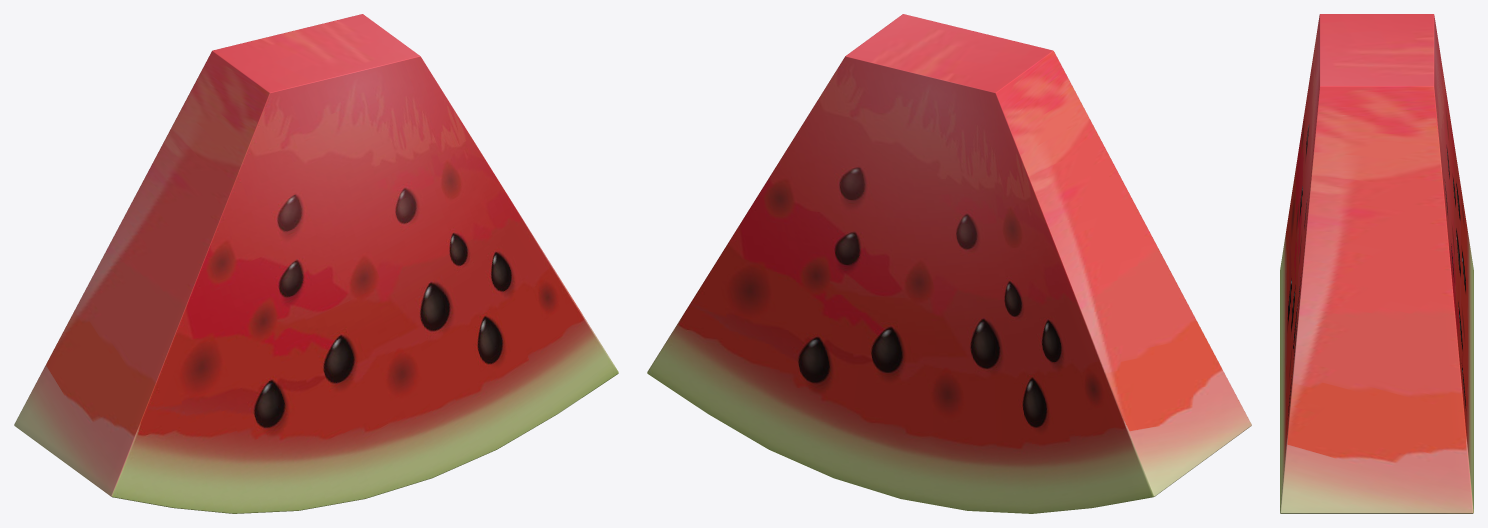
Rendered from watermelon.glb.
The picture shows the model from 3 angles, left to right: view 1: azimuth 30°, elevation 25°; view 2: azimuth 150°, elevation 25°; view 3: azimuth 270°, elevation 25°; orthographic projection.
Parts seen in each view (by area): view 1: pieces; view 2: pieces; view 3: pieces.
Boxes of the visible parts, x1,y1,x2,y2 form: pieces: (14,14,618,513); pieces: (647,14,1251,513); pieces: (1280,14,1473,513).
Bounding box in the file's own units: 0.196 × 0.1513 × 0.0657.
1 material, 1 textured.
